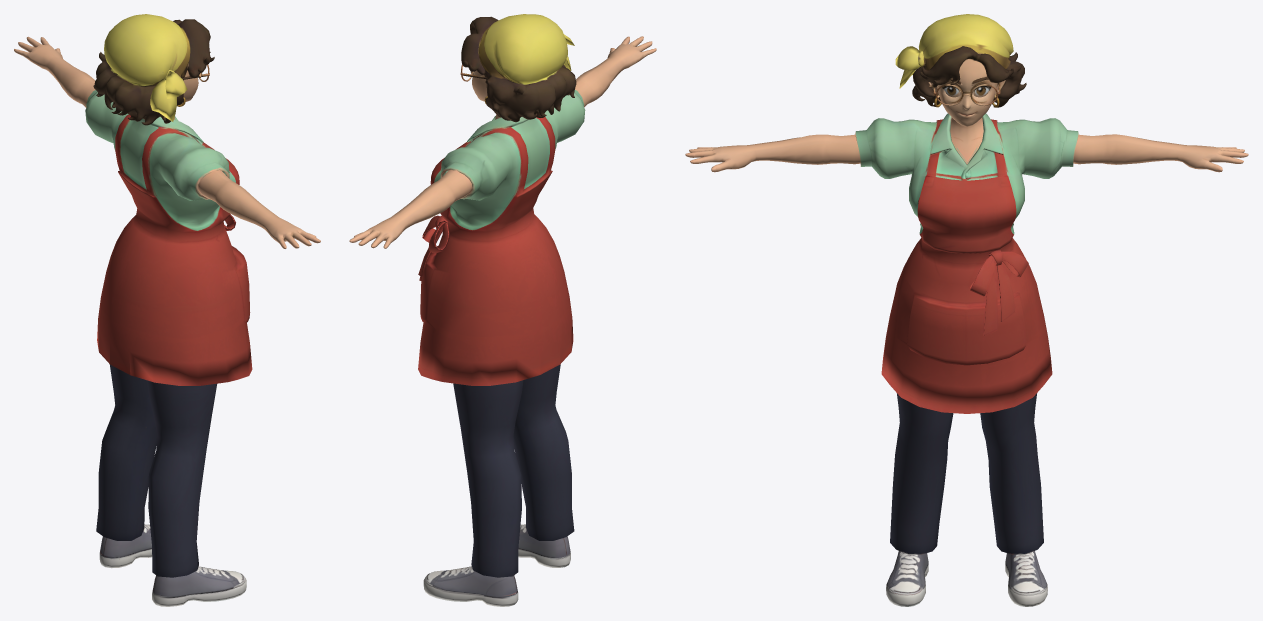
File: tripo_convert_552607ba-6746-4f2e-8af3-a6beac924862.glb
3 views of the same model, side by side, from view 1: azimuth 30°, elevation 25°; view 2: azimuth 150°, elevation 25°; view 3: azimuth 270°, elevation 25° (orthographic).
Visible parts, largest first — view 1: tripo_node_552607ba-6746-4f2e-8af3-a6beac924862; view 2: tripo_node_552607ba-6746-4f2e-8af3-a6beac924862; view 3: tripo_node_552607ba-6746-4f2e-8af3-a6beac924862.
Part boxes in pixels (bbox=[...]): tripo_node_552607ba-6746-4f2e-8af3-a6beac924862: bbox=[14, 14, 320, 606]; tripo_node_552607ba-6746-4f2e-8af3-a6beac924862: bbox=[349, 14, 656, 606]; tripo_node_552607ba-6746-4f2e-8af3-a6beac924862: bbox=[685, 14, 1248, 606].
Size of the model in its own units: 0.2515 by 0.9995 by 0.9155.
Materials: 1 (1 with a texture image).
